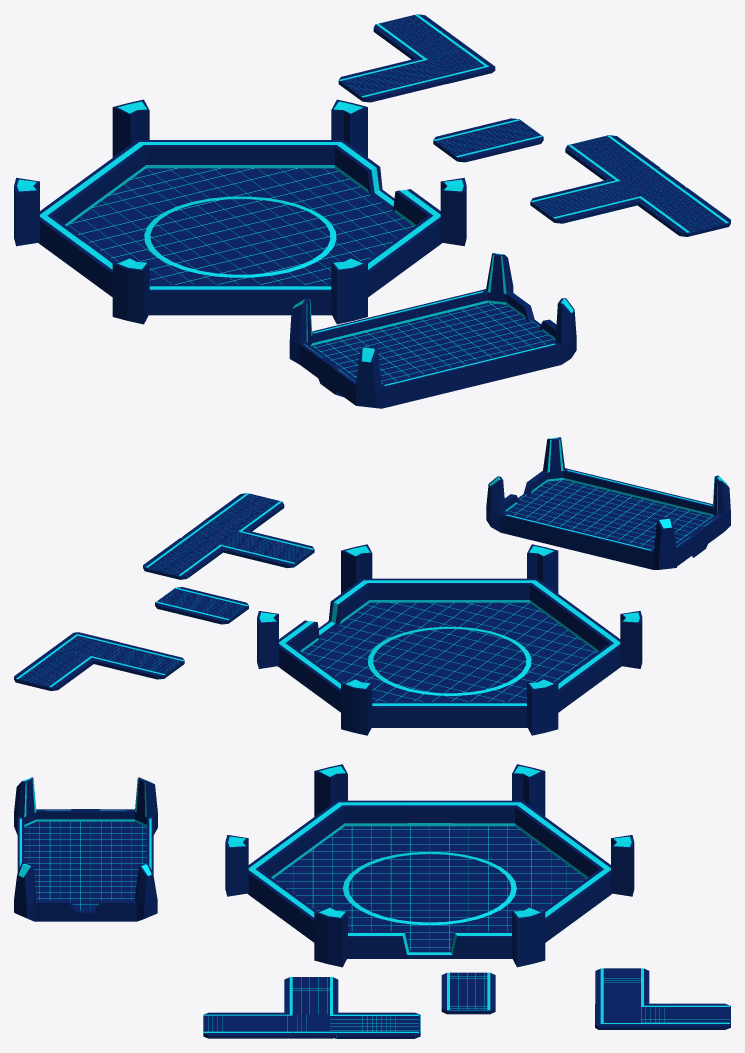
Rendered from Map boss new Updaete.fbx.
3 renders of one model, top to bottom at view 1: azimuth 30°, elevation 25°; view 2: azimuth 150°, elevation 25°; view 3: azimuth 270°, elevation 25°, orthographic. The views are drawn at different scales.
Visible parts, largest first — view 1: Cylinder.001, Plane, Cube, Plane.001, Plane.005, Plane.003, Plane.002, Plane.004, Cylinder, Cube.001, Plane.006, Cube.002 (+1 smaller); view 2: Cylinder.001, Plane, Cube, Plane.001, Plane.005, Plane.003, Plane.002, Plane.004, Cylinder, Cube.001, Plane.006, Cube.002 (+1 smaller); view 3: Cylinder.001, Plane, Plane.001, Cube, Plane.005, Plane.002, Plane.004, Plane.003, Cylinder, Plane.006, Cube.003, Cube.001.
Boxes of the visible parts, box(x1,y1,x2,y2) form: Cylinder.001: box(14, 99, 466, 324); Plane: box(67, 168, 413, 284); Cube: box(289, 253, 576, 408); Plane.001: box(312, 303, 555, 384); Plane.005: box(530, 135, 730, 236); Plane.003: box(339, 59, 447, 97); Plane.002: box(434, 119, 542, 157); Plane.004: box(376, 14, 465, 59); Cylinder: box(144, 196, 336, 277); Cube.001: box(433, 118, 543, 162); Plane.006: box(425, 48, 488, 76); Cube.002: box(338, 58, 448, 102); Cylinder.001: box(257, 544, 642, 735); Plane: box(302, 602, 597, 701); Cube: box(486, 437, 730, 569); Plane.001: box(505, 480, 712, 549); Plane.005: box(143, 493, 314, 579); Plane.003: box(92, 642, 184, 674); Plane.002: box(156, 587, 248, 620); Plane.004: box(16, 649, 92, 687); Cylinder: box(368, 626, 531, 695); Cube.001: box(155, 587, 248, 624); Plane.006: box(56, 634, 111, 657); Cube.002: box(93, 642, 184, 679); Cylinder.001: box(225, 764, 634, 967); Plane: box(273, 826, 586, 950); Plane.001: box(24, 821, 146, 910); Cube: box(14, 777, 157, 921); Plane.005: box(203, 977, 420, 1038); Plane.002: box(447, 972, 490, 1010); Plane.004: box(641, 1005, 729, 1023); Plane.003: box(600, 968, 643, 1005); Cylinder: box(343, 852, 516, 925); Plane.006: box(600, 1005, 645, 1023); Cube.003: box(644, 1003, 730, 1029); Cube.001: box(441, 973, 495, 1014).
Size of the model in its own units: 2376 by 331 by 3000.
